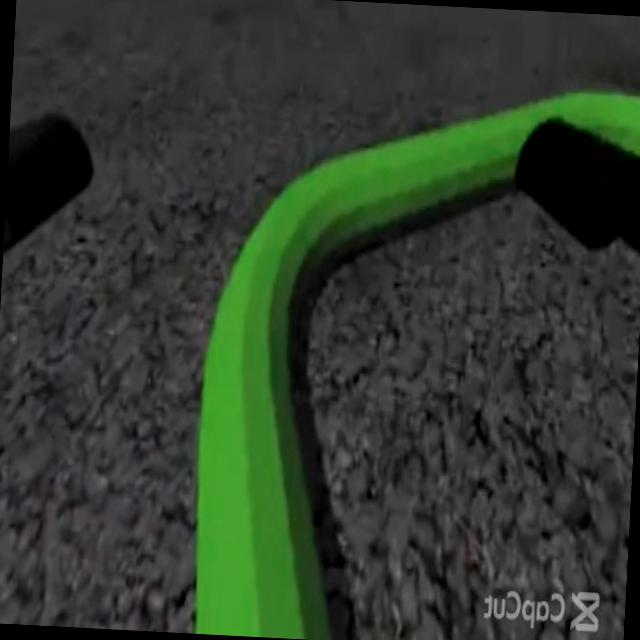gas: (187, 141, 369, 640), (216, 97, 504, 314)
